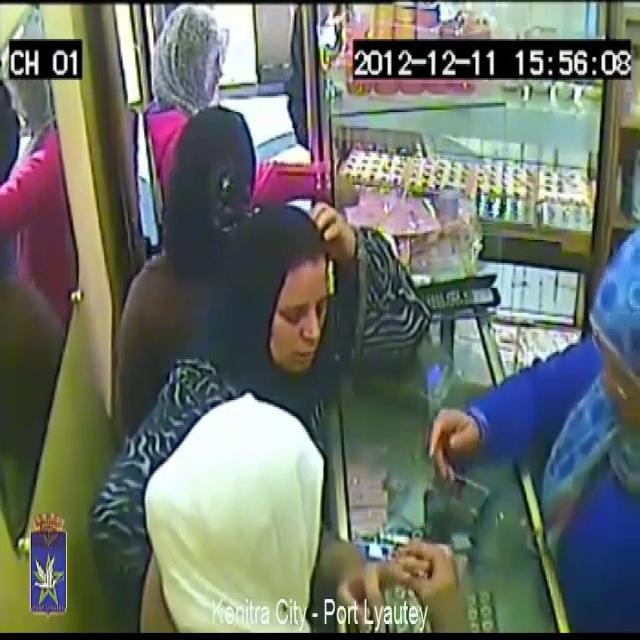Product: (408, 530, 432, 574)
normal: (464, 151, 640, 640), (137, 0, 409, 208), (244, 196, 368, 404), (172, 92, 267, 283)
shoplifting: (116, 410, 445, 640)
